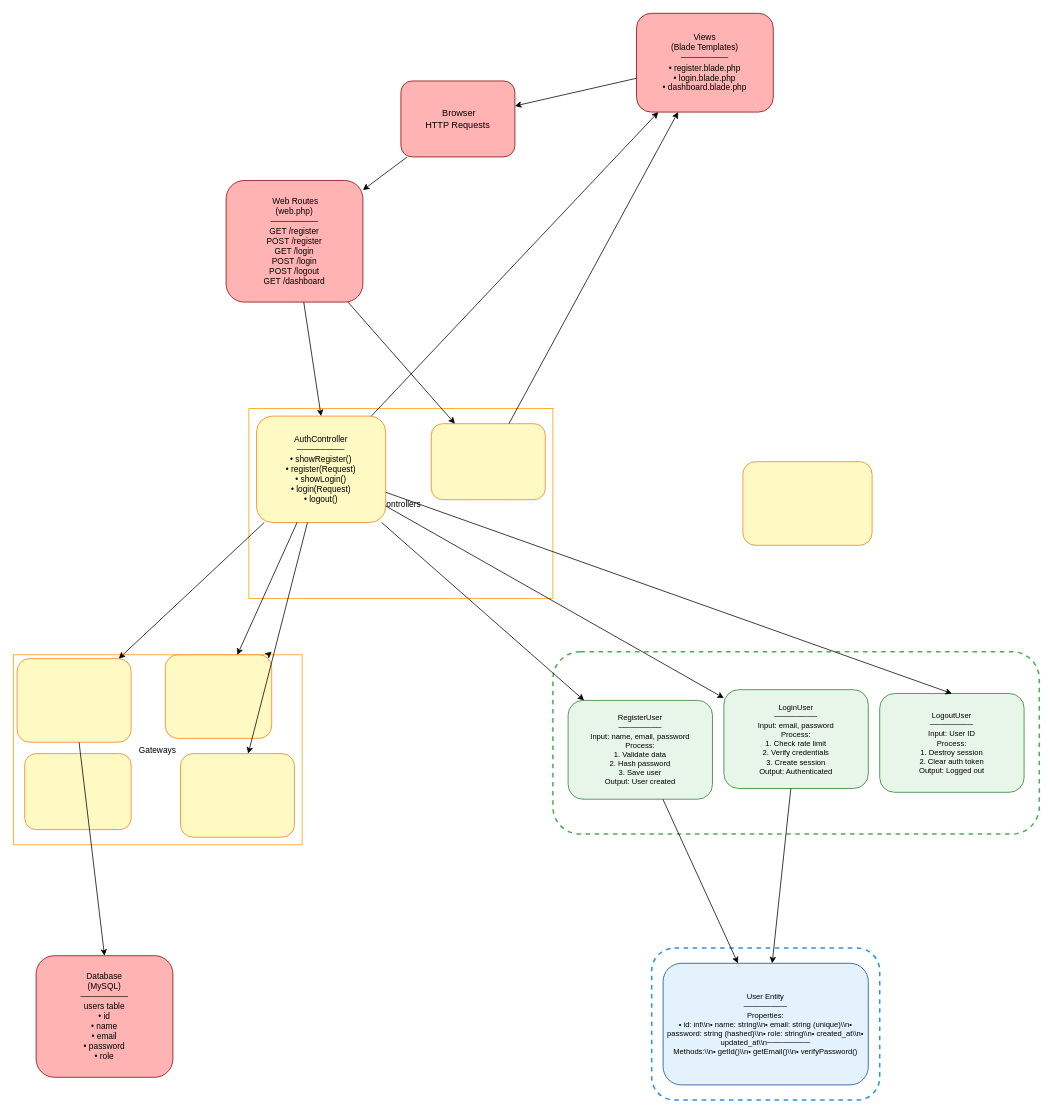
Some shapes in this 1053 by 1114 pixel diagram are drawn without their labels. Here are the shapes that lost their labels. From the top down, the centre of each, then its label:
(x=488, y=461): DashboardController ──────── • index()
(x=807, y=503): Presenters ──────── • JSON Responses • View Data • Error Messages
(x=73, y=700): UserRepository (Eloquent Model) ──────── • create() • findByEmail() • all()
(x=218, y=696): AuthGateway ──────── • attempt() • logout() • check()
(x=77, y=791): HashGateway ──────── • make() • check()
(x=237, y=795): RateLimiterGateway ──────── • tooManyAttempts() • hit() • clear()
